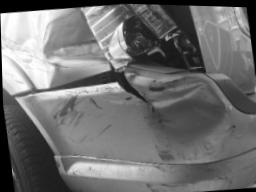Bumper: (14, 62, 256, 192)
Fender: (0, 7, 111, 94)
Light: (80, 3, 205, 68)
